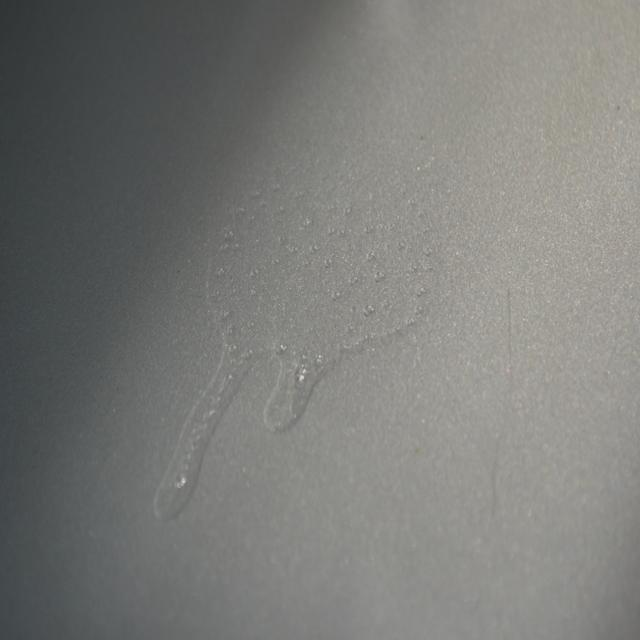dirt: (616, 102, 622, 113)
runs: (149, 142, 422, 526)
scratch: (490, 277, 517, 516)
